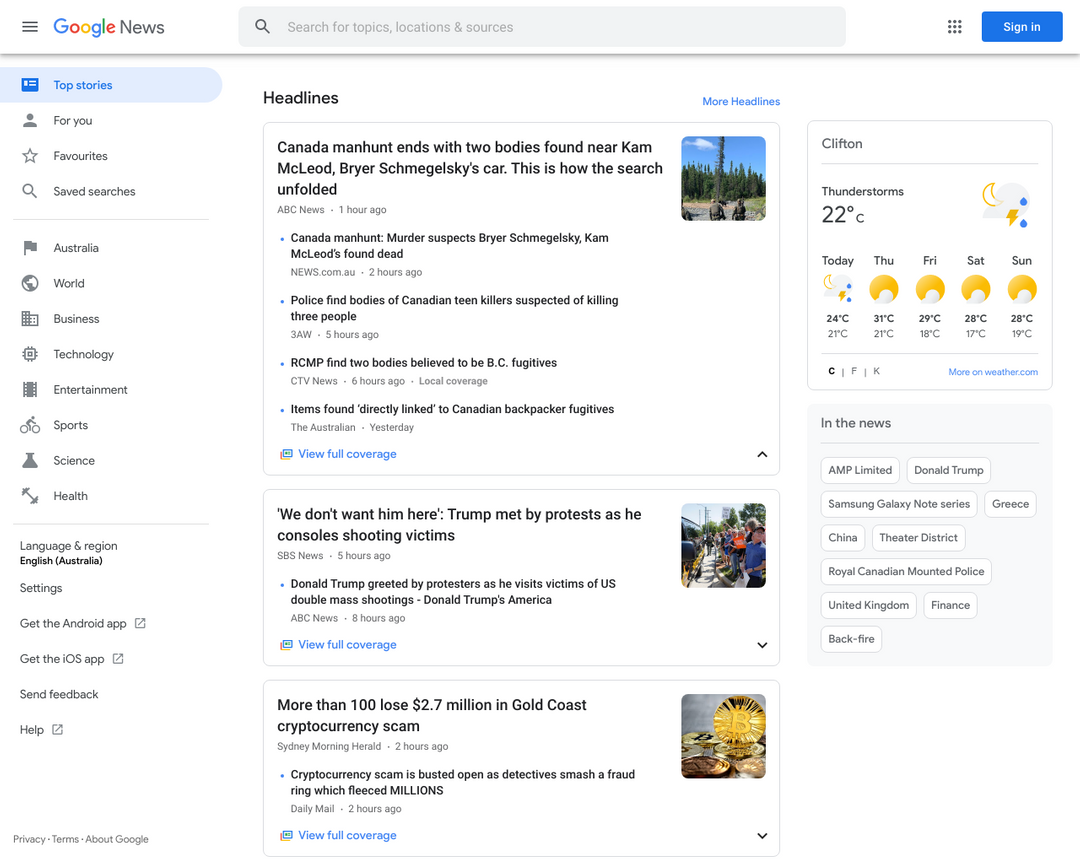Google: (49, 16, 118, 40)
